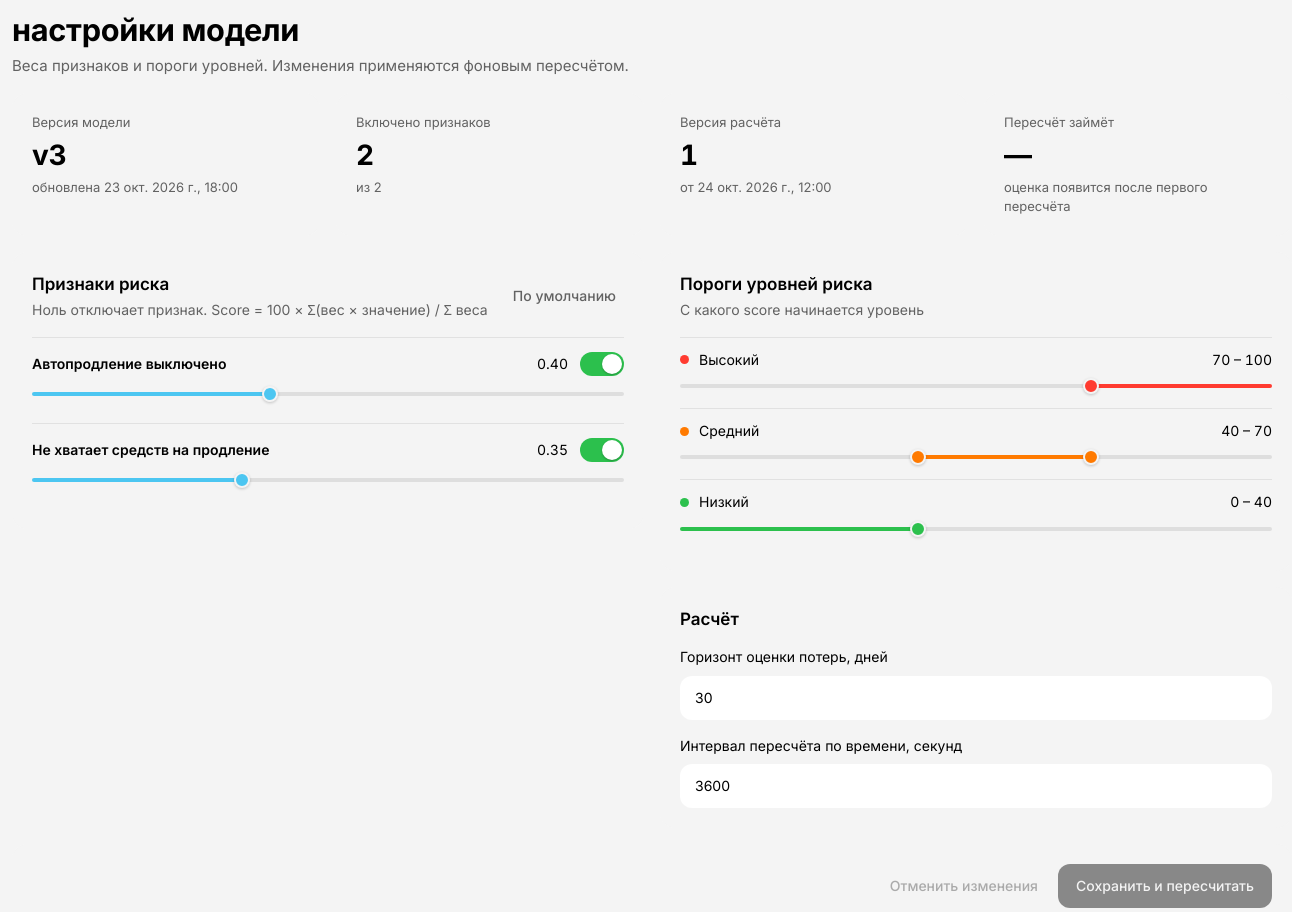
it: ModelPage › stops the medium threshold before the high one
The image size is (1292, 912).
Set the slider labelled "Средний" to "80" at (1149, 457), box top-left (680, 447), bottom-right (1272, 467)
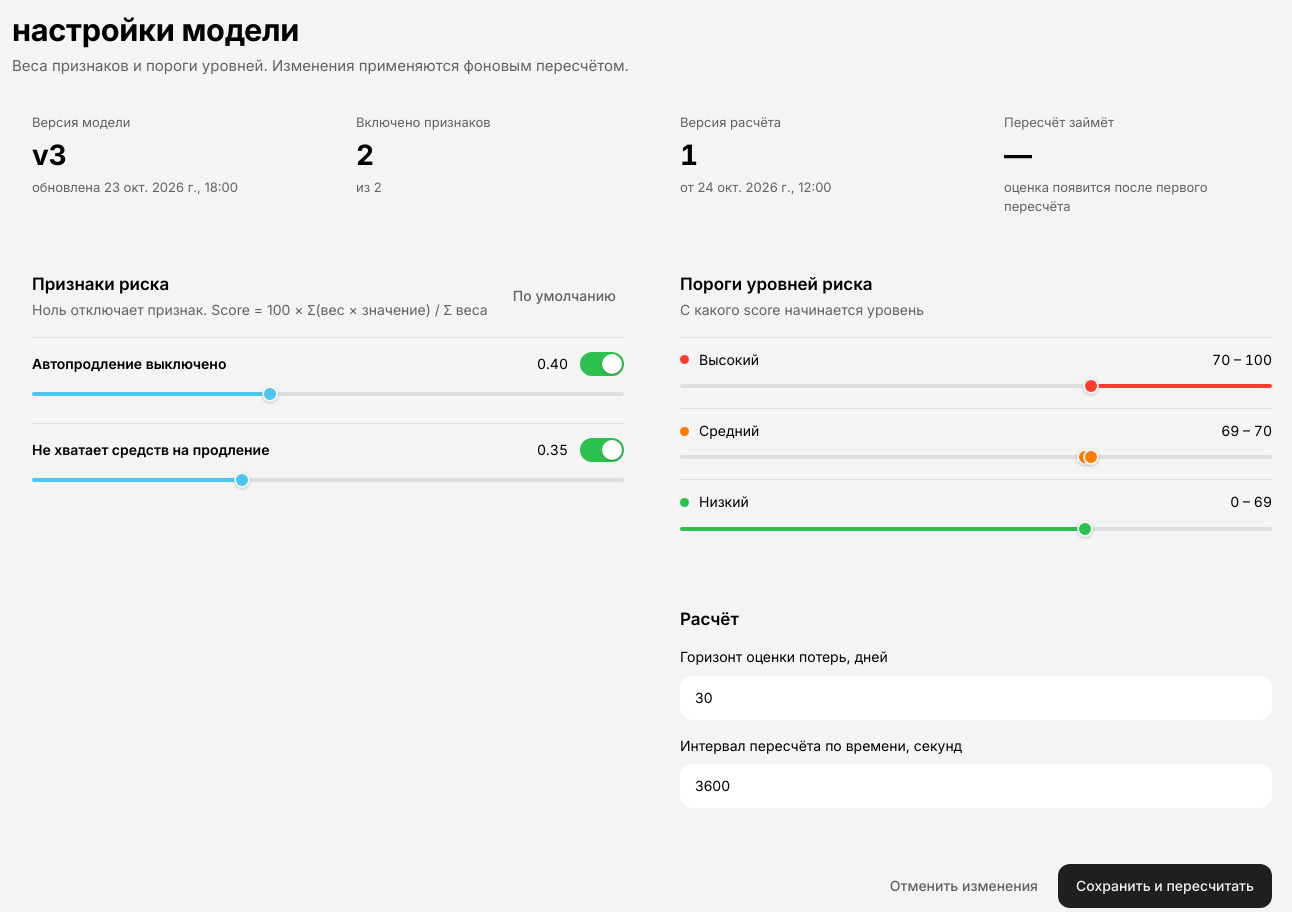
Expected: the text "69 – 70" is shown, top-left (1221, 421), bottom-right (1272, 441)
Expected: the text "0 – 69" is shown, top-left (1230, 492), bottom-right (1272, 513)
